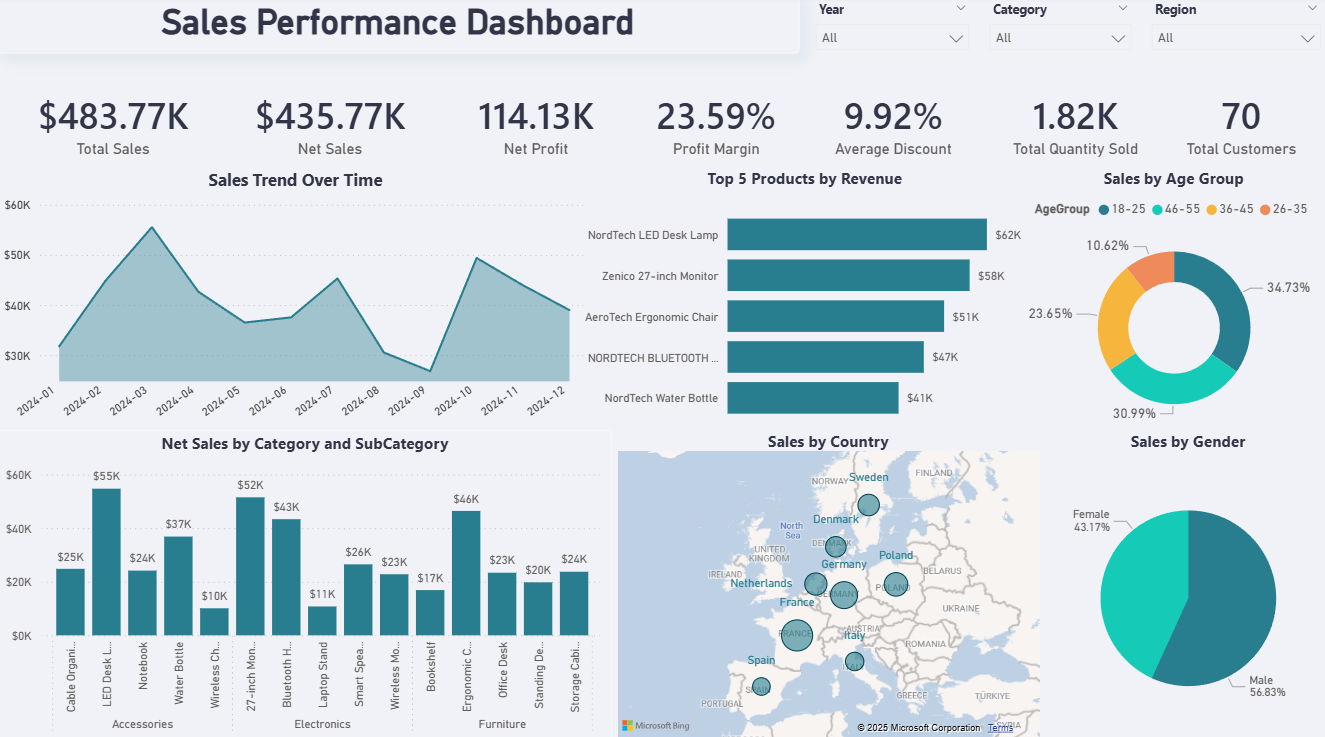

The page's visual inventory and layout, read from the dashboard file:
{"tool":"powerbi","page":{"name":"Page 1","canvas":[1280,720],"ordinal":0},"visuals":[{"type":"slicer","fields":{"Values":["Calendar.Year"]},"box":[775.1,0,166.8,73.3],"z":0},{"type":"slicer","fields":{"Values":["Products.Category"]},"box":[942,0,155.3,73.3],"z":1000},{"type":"slicer","fields":{"Values":["Sales.Region"]},"box":[1097.8,0,181.7,72.7],"z":2000},{"type":"cardVisual","fields":{"Data":["Sales.Total Sales"]},"box":[5.8,70.9,210,103.5],"z":3000},{"type":"cardVisual","fields":{"Data":["Calendar.Average Discount"]},"box":[768,70.5,181.2,103.5],"z":4000},{"type":"cardVisual","fields":{"Data":["Sales.Total Customers"]},"box":[1104.5,70.5,175.4,103.5],"z":5000},{"type":"cardVisual","fields":{"Data":["Sales.Profit Margin"]},"box":[589.6,70.5,198.5,103.5],"z":6000},{"type":"areaChart","title":"Sales Trend Over Time","fields":{"Category":["Calendar.YearMonth"],"Y":["Sales.Total Sales"]},"box":[5.8,165.4,560.9,251.7],"z":7000},{"type":"clusteredBarChart","title":"Top 5  Products by Revenue","fields":{"Category":["Products.ProductName"],"Y":["Sales.Total Sales"]},"box":[545.1,165,458.8,257.4],"z":8000},{"type":"donutChart","title":"Sales by Age Group","fields":{"Category":["Customers.AgeGroup"],"Y":["Sales.Total Sales"]},"box":[969.3,165.4,310.6,257.4],"z":9000},{"type":"textbox","box":[0,0,769.2,56],"z":10000},{"type":"cardVisual","fields":{"Data":["Calendar.Net Sales"]},"box":[215.7,70.9,205.7,103.5],"z":11000},{"type":"cardVisual","fields":{"Data":["Calendar.Net Profit"]},"box":[411.3,70.5,210,103.5],"z":12000},{"type":"cardVisual","fields":{"Data":["Calendar.Total Quantity Sold"]},"box":[942,70.9,182.6,103.5],"z":13000},{"type":"map","title":"Sales by Country","fields":{"Category":["Customers.Country"],"Size":["Calendar.Net Sales"]},"box":[589,416.4,414.9,302.8],"z":14000},{"type":"pieChart","title":"Sales by Gender","fields":{"Y":["Calendar.Net Sales"],"Category":["Customers.Gender"]},"box":[969.1,416.4,310.4,302.8],"z":15000},{"type":"clusteredColumnChart","fields":{"Category":["Products.Category","Products.SubCategory"],"Y":["Calendar.Net Sales"]},"box":[0,416.4,589,302.8],"z":16000}]}

Visuals, with their boxes in screenshot pixels (x1, y1, x2, y2), scaled from the page's 1280x720 canvas onto the 1325x737 screenshot:
slicer - Calendar.Year: bbox=[802, 0, 975, 75]
slicer - Products.Category: bbox=[975, 0, 1136, 75]
slicer - Sales.Region: bbox=[1136, 0, 1324, 74]
cardVisual - Sales.Total Sales: bbox=[6, 73, 223, 179]
cardVisual - Calendar.Average Discount: bbox=[795, 72, 983, 178]
cardVisual - Sales.Total Customers: bbox=[1143, 72, 1324, 178]
cardVisual - Sales.Profit Margin: bbox=[610, 72, 816, 178]
"Sales Trend Over Time" areaChart: bbox=[6, 169, 587, 427]
"Top 5  Products by Revenue" clusteredBarChart: bbox=[564, 169, 1039, 432]
"Sales by Age Group" donutChart: bbox=[1003, 169, 1324, 433]
textbox: bbox=[0, 0, 796, 57]
cardVisual - Calendar.Net Sales: bbox=[223, 73, 436, 179]
cardVisual - Calendar.Net Profit: bbox=[426, 72, 643, 178]
cardVisual - Calendar.Total Quantity Sold: bbox=[975, 73, 1164, 179]
"Sales by Country" map: bbox=[610, 426, 1039, 736]
"Sales by Gender" pieChart: bbox=[1003, 426, 1324, 736]
clusteredColumnChart - Products.Category x Products.SubCategory: bbox=[0, 426, 610, 736]
